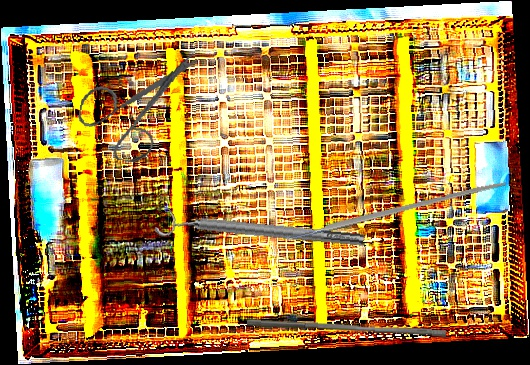Fixation Ring: (153, 203, 366, 258)
Iris Scissors: (71, 32, 201, 172)
Pusher: (246, 319, 447, 338)
Scalpel Handle: (282, 178, 508, 243)
